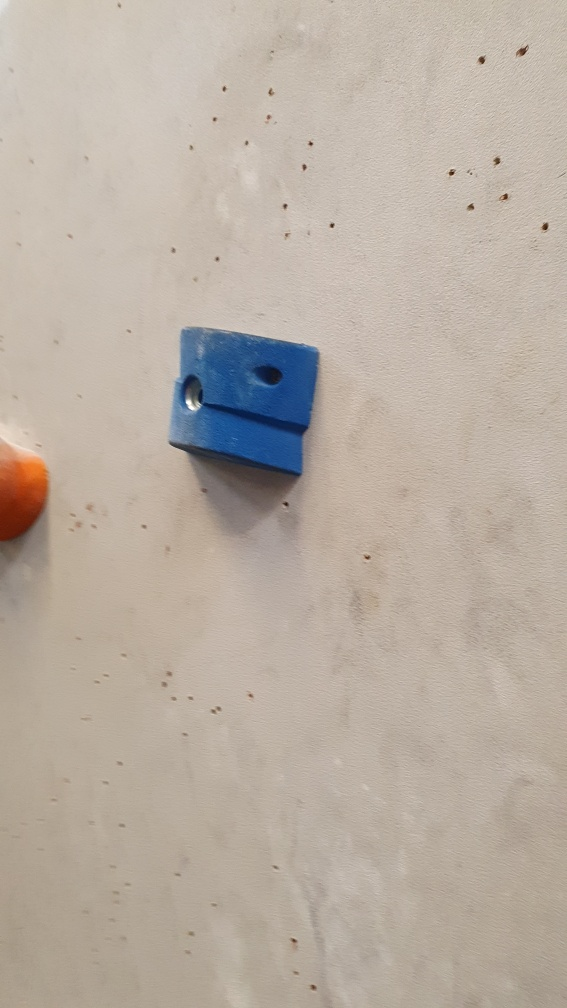Pinch: (166, 319, 322, 482)
